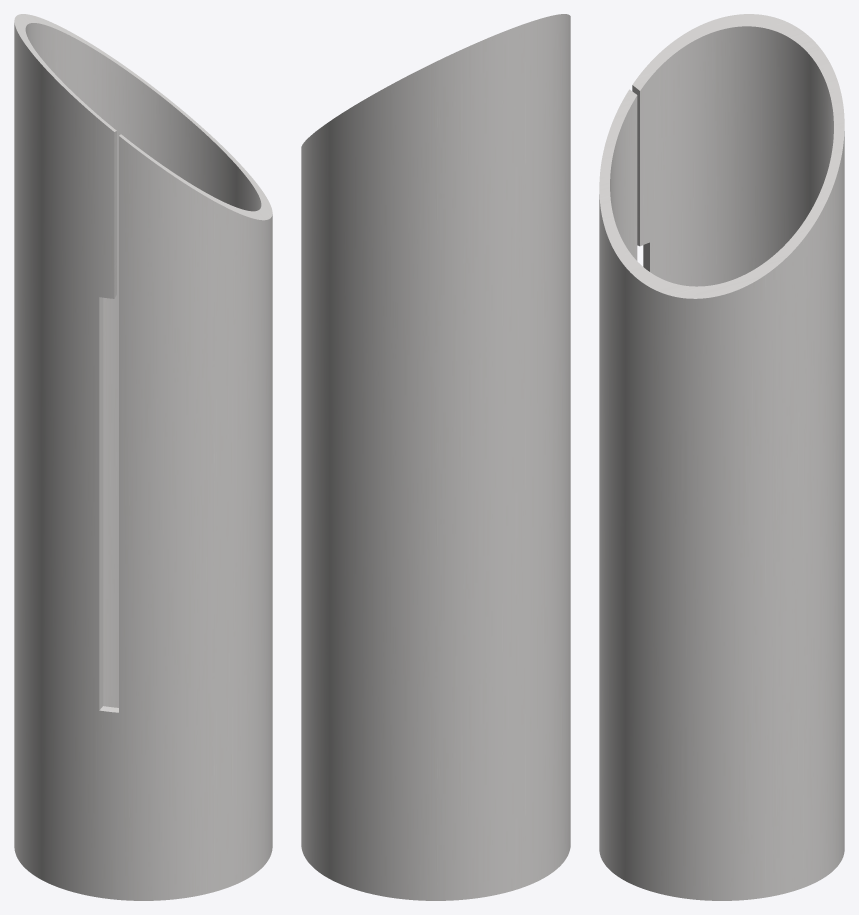
Rendered from bishop-white.glb.
3 views of the same model, side by side, from view 1: azimuth 30°, elevation 25°; view 2: azimuth 150°, elevation 25°; view 3: azimuth 270°, elevation 25° (orthographic). The views are drawn at different scales.
Parts seen in each view (by area): view 1: 02_strelec_bila; view 2: 02_strelec_bila; view 3: 02_strelec_bila.
Part boxes in pixels (box(x1,y1,x2,y2)): 02_strelec_bila: box(14, 14, 272, 900); 02_strelec_bila: box(301, 14, 570, 900); 02_strelec_bila: box(599, 14, 844, 900).
Bounding box in the file's own units: 0.4669 × 1.65 × 0.4669.
Materials: 1 (1 with a texture image).
